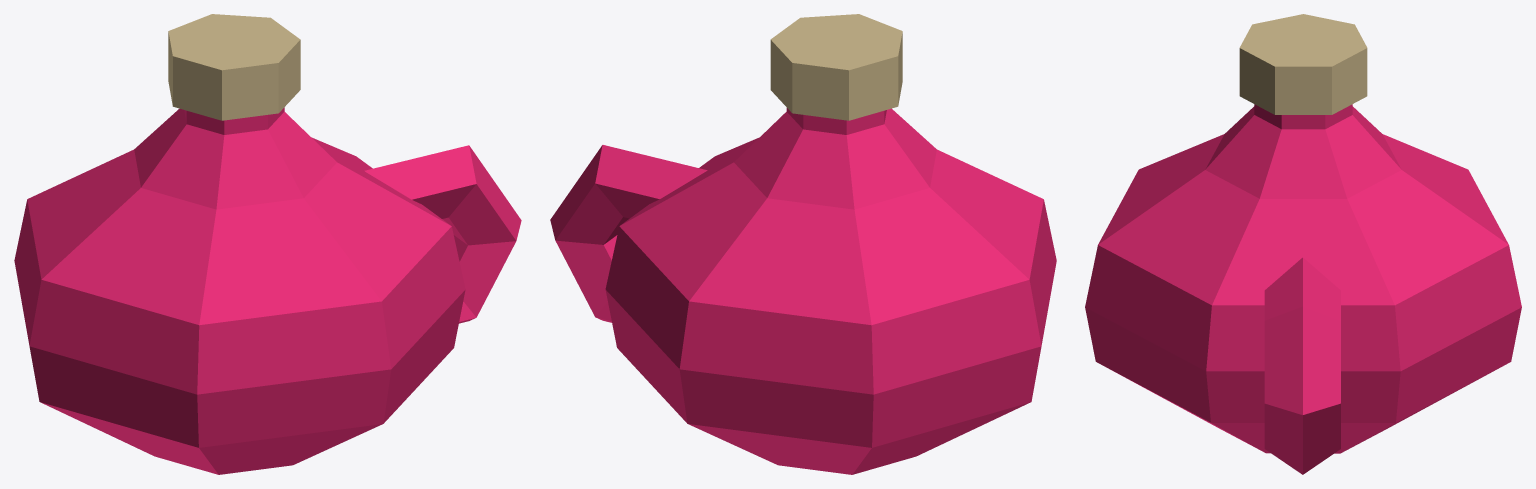
Rendered from ShortHandlePotion.037.fbx.
The picture shows the model from 3 angles, left to right: view 1: azimuth 30°, elevation 25°; view 2: azimuth 150°, elevation 25°; view 3: azimuth 270°, elevation 25°; orthographic projection. The views are drawn at different scales.
Visible parts, largest first — view 1: ShortHandlePotion.037; view 2: ShortHandlePotion.037; view 3: ShortHandlePotion.037.
Part boxes in pixels (box(x1,y1,x2,y2)): ShortHandlePotion.037: box(14, 14, 521, 474); ShortHandlePotion.037: box(550, 14, 1056, 474); ShortHandlePotion.037: box(1085, 14, 1521, 474).
Bounding box in the file's own units: 16.54 × 12.73 × 13.29.
